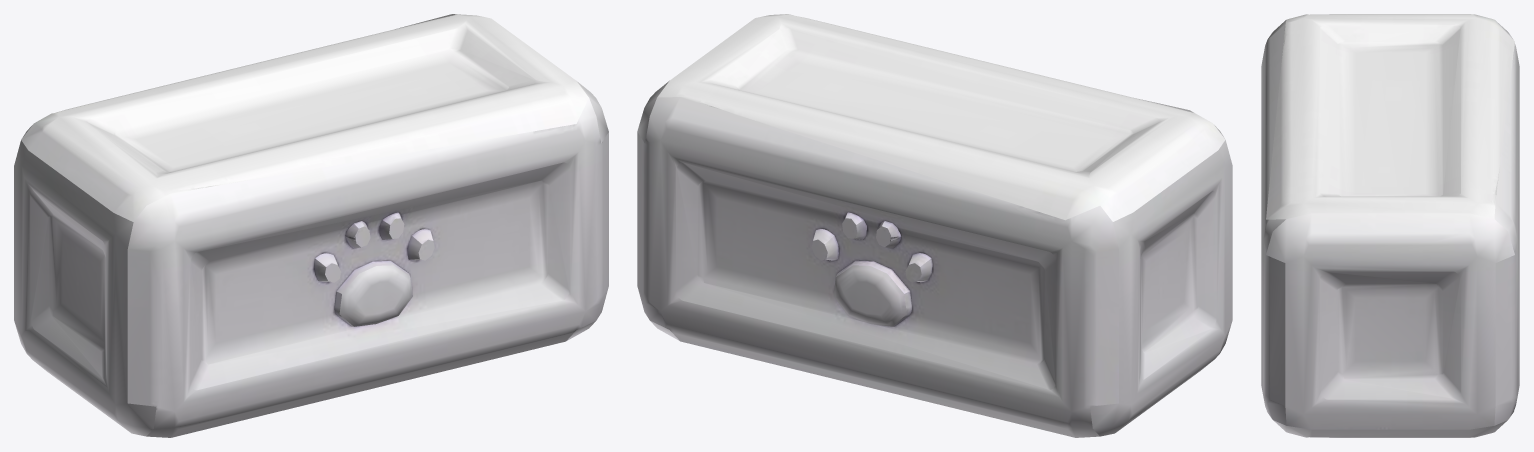
Rendered from cubuk2.glb.
3 renders of one model, left to right at view 1: azimuth 30°, elevation 25°; view 2: azimuth 150°, elevation 25°; view 3: azimuth 270°, elevation 25°, orthographic. The views are drawn at different scales.
Parts seen in each view (by area): view 1: cubuk2; view 2: cubuk2; view 3: cubuk2.
Boxes of the visible parts, x1,y1,x2,y2 form: cubuk2: (14, 14, 608, 437); cubuk2: (637, 14, 1232, 437); cubuk2: (1261, 14, 1519, 437).
Size of the model in its own units: 3.06 by 1.51 by 1.51.
1 material, 1 textured.
